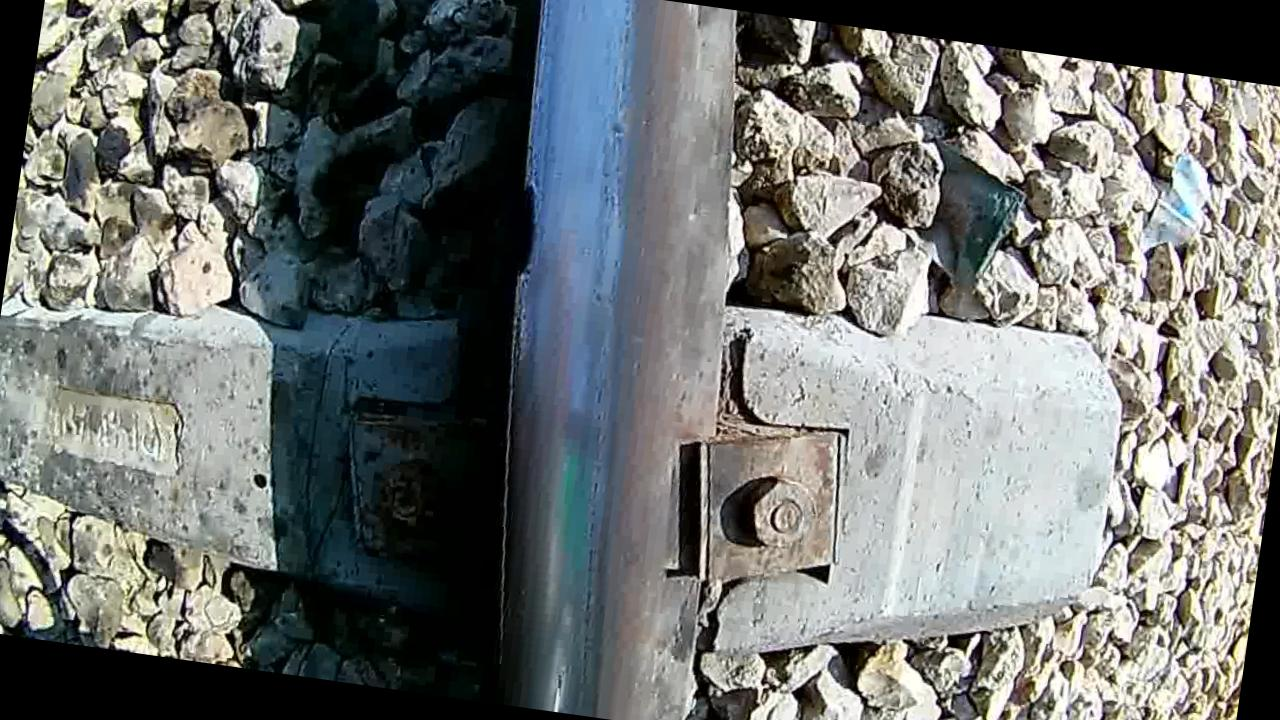crack: (502, 168, 582, 318)
